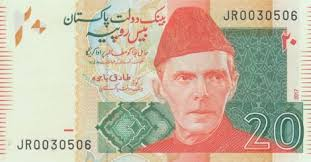20 rupee: (4, 3, 309, 158)
